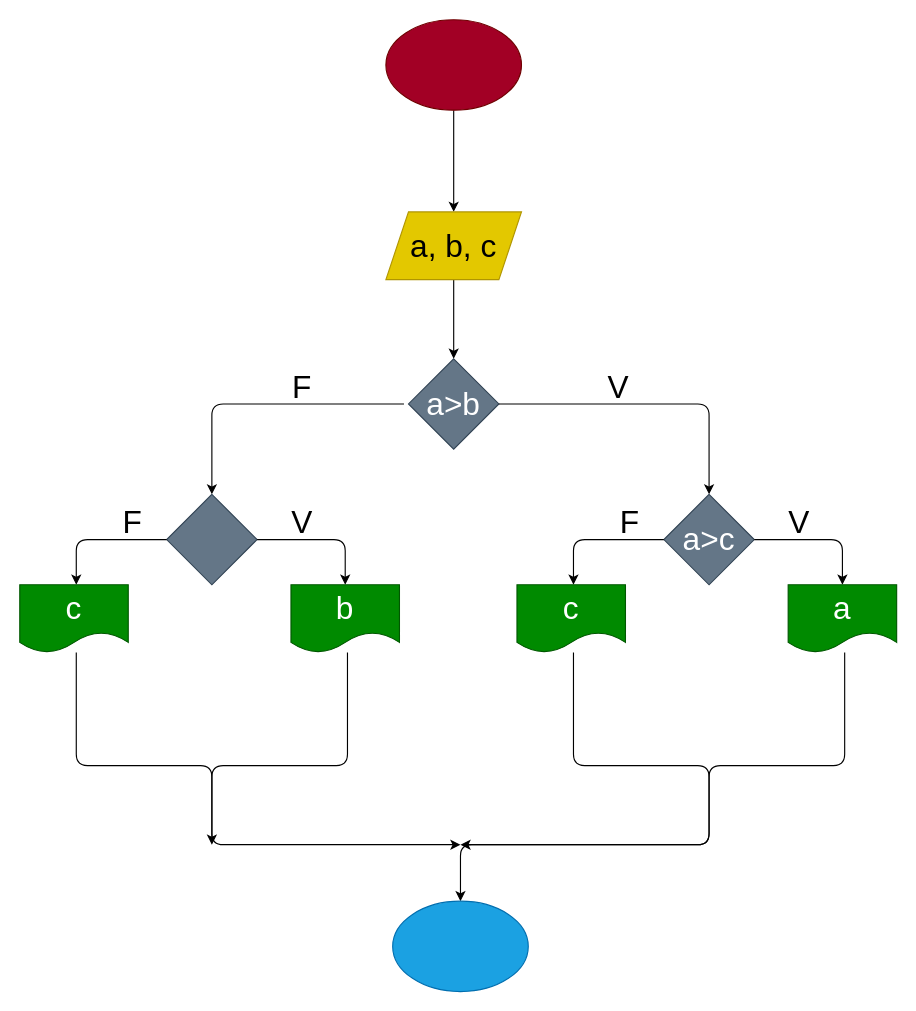
Image size: 916x1011. Some labels were removed from this diagram. Here are the shapes that lost their labels. From the top down, the box of each, then its label:
(385, 19, 521, 110): inicio
(166, 493, 257, 585): b>c
(392, 900, 528, 992): fin
